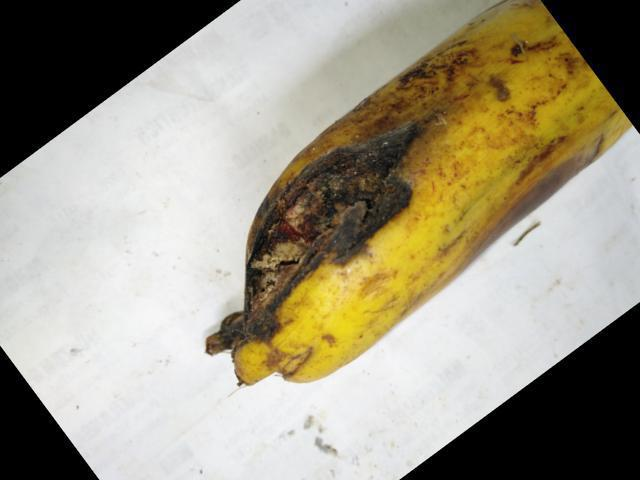ripe: (205, 0, 618, 399)
rotten: (186, 87, 440, 369)
